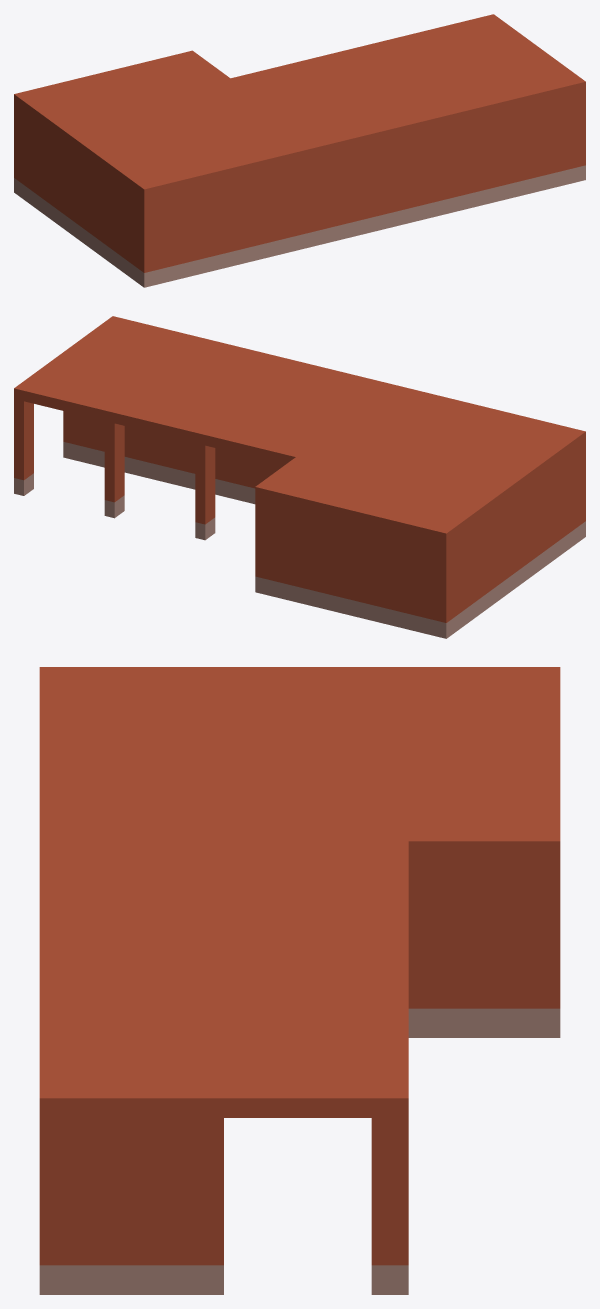
The model's file is Maison2_construct.fbx.
The picture shows the model from 3 angles, top to bottom: view 1: azimuth 30°, elevation 25°; view 2: azimuth 150°, elevation 25°; view 3: azimuth 270°, elevation 25°; orthographic projection. The views are drawn at different scales.
Visible parts, largest first — view 1: block_459, block_columns_457, block_columns_458, block_columns_456; view 2: block_459, block_columns_456, block_columns_457, block_columns_458; view 3: block_459, block_columns_456, block_columns_457, block_columns_458.
Part boxes in pixels (box(x1,y1,x2,y2)): block_459: box(14, 50, 322, 287); block_columns_457: box(316, 35, 501, 223); block_columns_458: box(231, 55, 416, 243); block_columns_456: box(401, 14, 585, 200); block_459: box(255, 385, 585, 638); block_columns_456: box(14, 316, 212, 518); block_columns_457: box(104, 338, 303, 540); block_columns_458: box(195, 360, 394, 539); block_459: box(39, 667, 560, 1037); block_columns_456: box(39, 1006, 408, 1294); block_columns_457: box(39, 924, 408, 1015); block_columns_458: box(39, 841, 408, 923).
Size of the model in its own units: 47 by 10 by 24.
